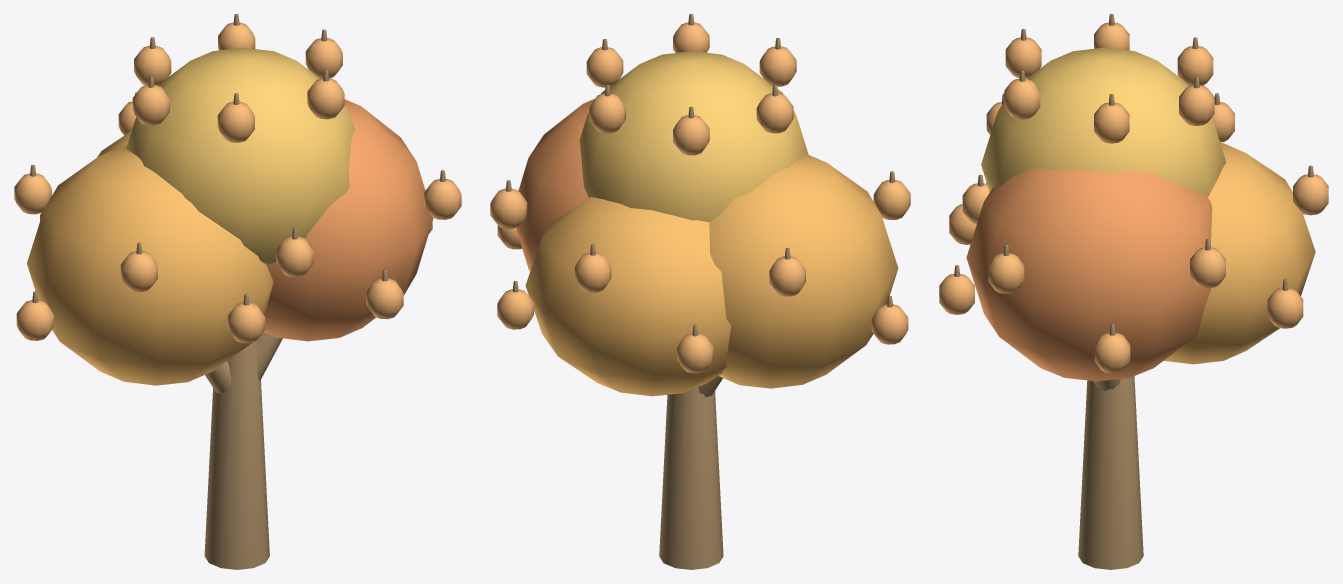
The model's file is tree_fruit_autumn.glb.
3 views of the same model, side by side, from view 1: azimuth 30°, elevation 25°; view 2: azimuth 150°, elevation 25°; view 3: azimuth 270°, elevation 25° (orthographic).
Size of the model in its own units: 2.76 by 3.25 by 2.26.
